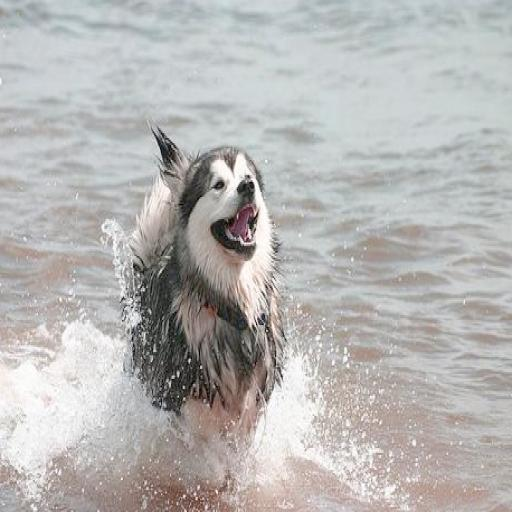dog_face: (153, 122, 270, 265)
